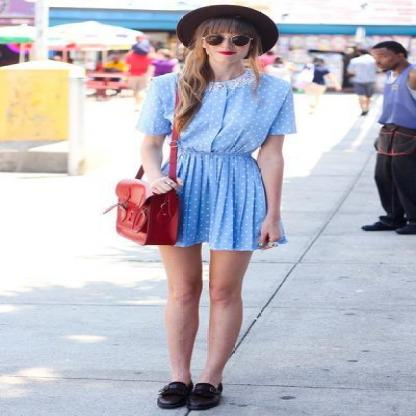bag: (103, 111, 194, 245)
dress: (134, 64, 302, 257)
hat: (162, 5, 278, 54)
shoe: (157, 380, 222, 415)
sunglass: (202, 36, 223, 62)
